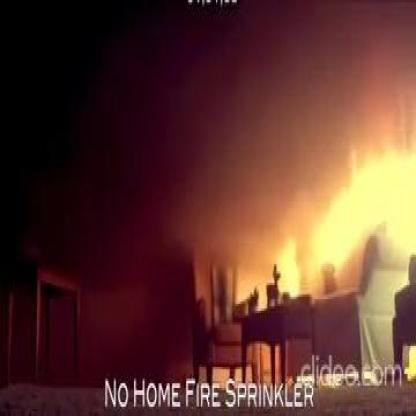fire: (309, 147, 416, 275), (274, 236, 299, 297)
